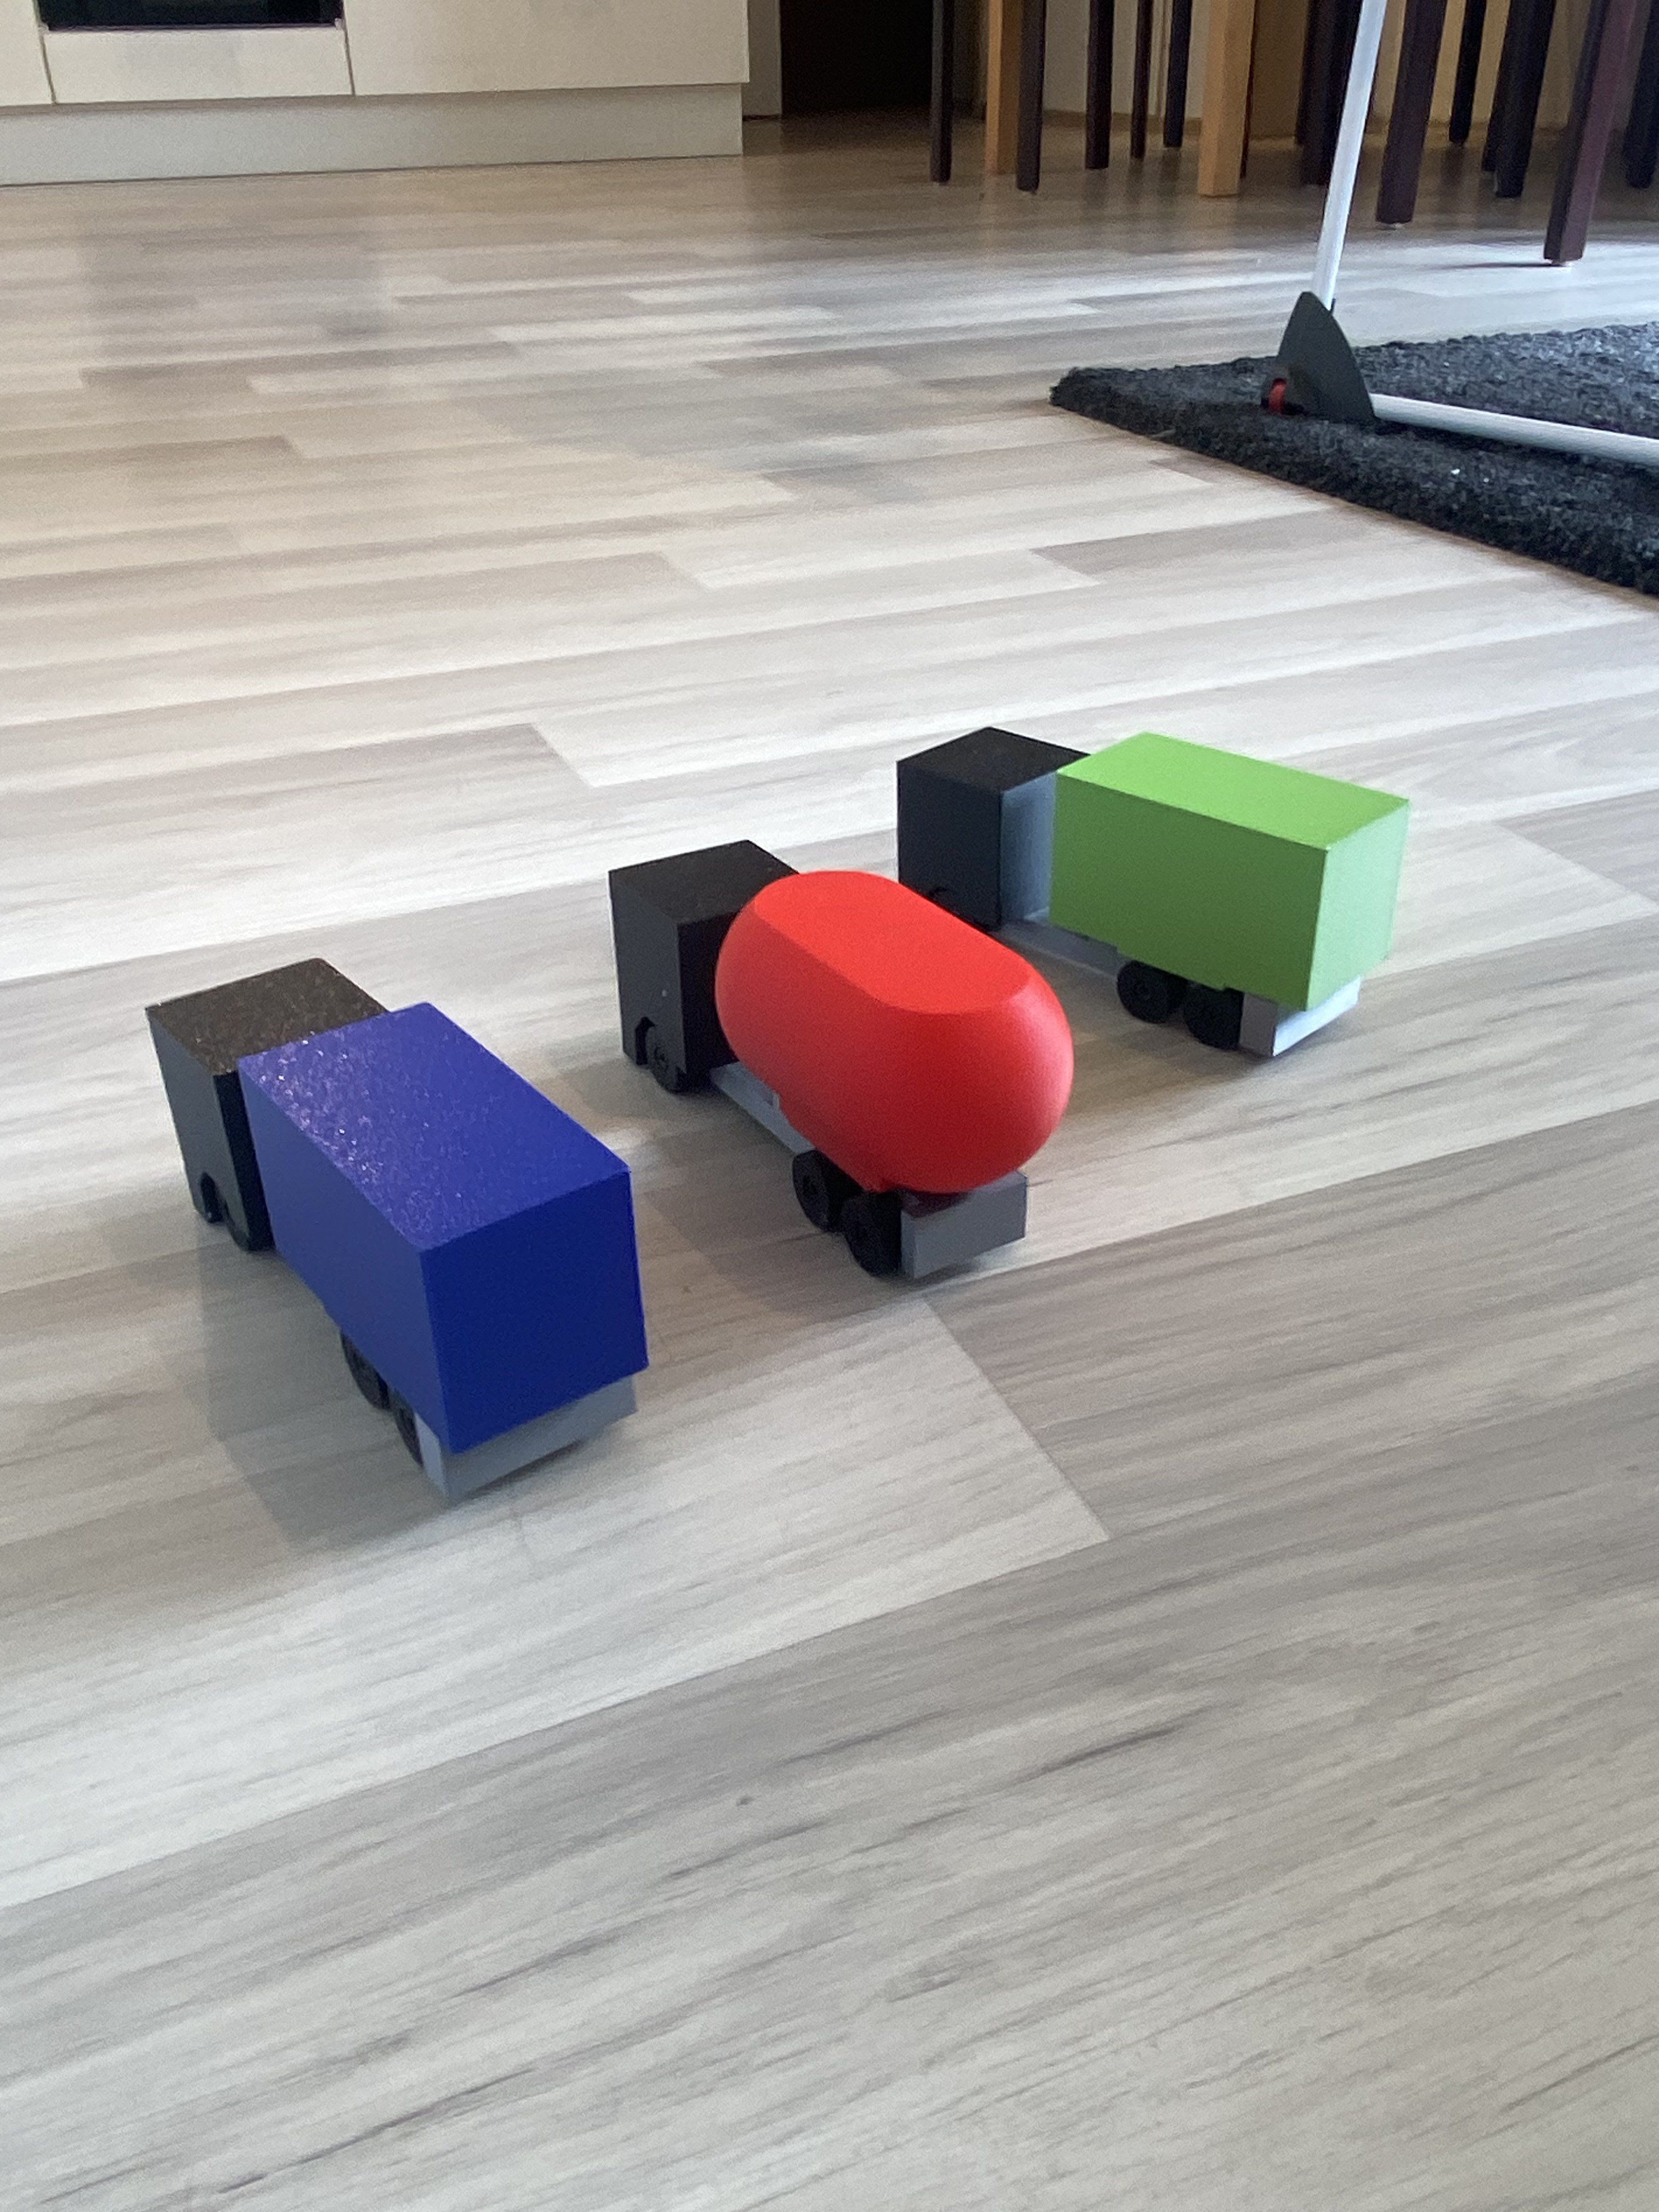blue_truck: (110, 993, 732, 1383)
green_truck: (856, 721, 1392, 1021)
red_truck: (554, 843, 1147, 1204)
